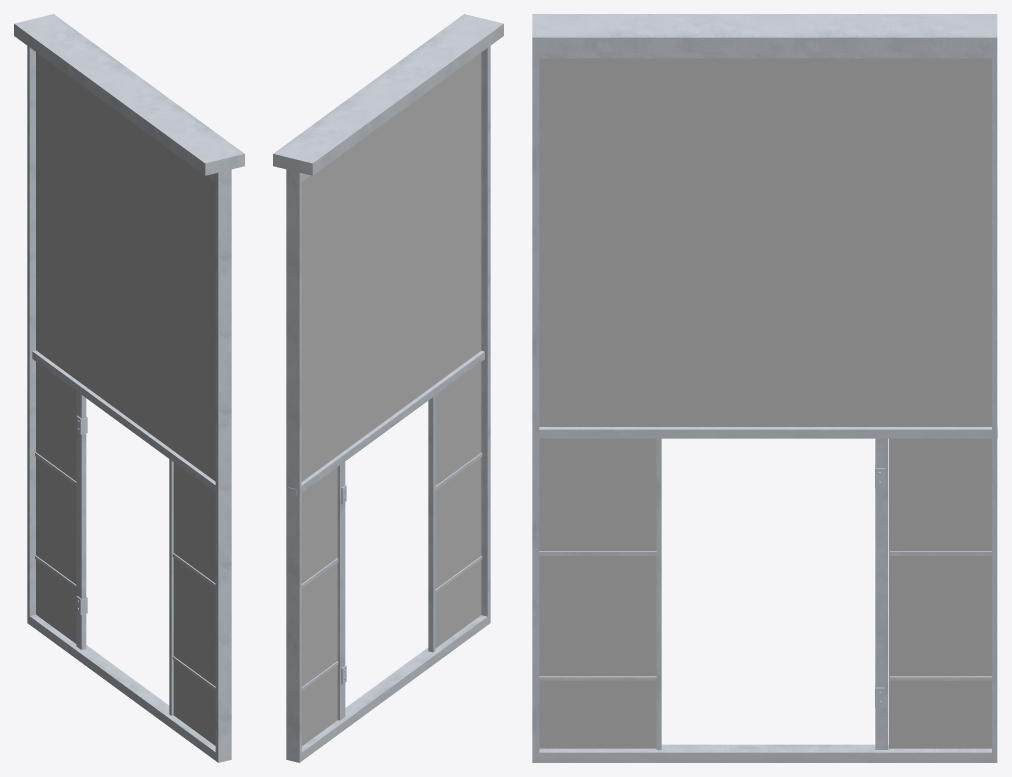
File: SM_PanelDoor.fbx
3 renders of one model, left to right at view 1: azimuth 30°, elevation 25°; view 2: azimuth 150°, elevation 25°; view 3: azimuth 270°, elevation 25°, orthographic. The views are drawn at different scales.
Visible parts, largest first — view 1: SM_PanelDoor_LOD0; view 2: SM_PanelDoor_LOD0; view 3: SM_PanelDoor_LOD0.
Part boxes in pixels (<box>): SM_PanelDoor_LOD0: <box>14,14,244,762</box>; SM_PanelDoor_LOD0: <box>273,14,503,762</box>; SM_PanelDoor_LOD0: <box>532,14,997,762</box>.
Bounding box in the file's own units: 35.77 × 299 × 520.
Materials: 2 (1 with a texture image).
